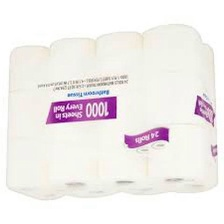tissue: (0, 19, 224, 207)
